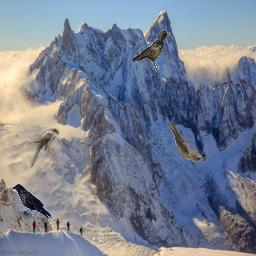Crow: (132, 30, 171, 70), (12, 184, 52, 220)
Cuckoo: (166, 122, 206, 162), (30, 128, 59, 168)
